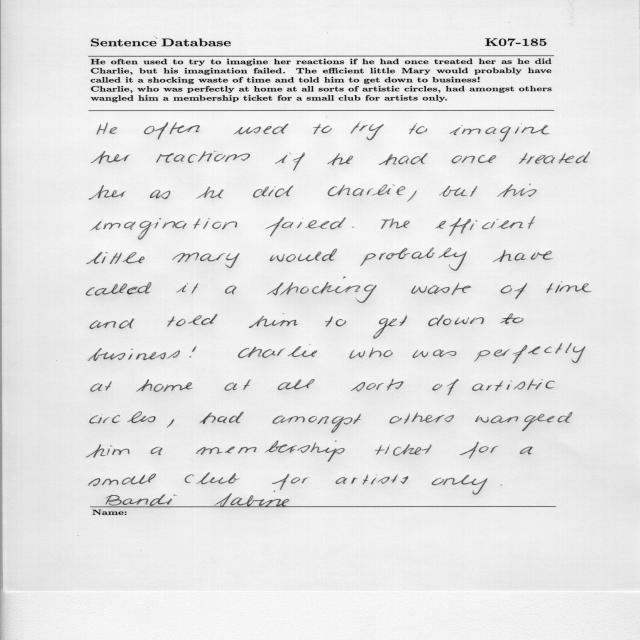word: (92, 218, 237, 240), (196, 441, 345, 462), (267, 277, 377, 303), (360, 248, 467, 271), (474, 343, 586, 363), (435, 216, 535, 236), (475, 412, 572, 431), (272, 413, 361, 433), (450, 125, 550, 142), (163, 473, 239, 495), (266, 217, 346, 236), (88, 348, 180, 361), (156, 151, 250, 163), (238, 344, 317, 358), (172, 252, 240, 268), (144, 122, 200, 140), (472, 379, 555, 391), (270, 248, 337, 262), (328, 184, 405, 196), (86, 282, 152, 296), (519, 151, 590, 164), (443, 475, 488, 495), (88, 474, 156, 487), (373, 315, 407, 339), (90, 412, 156, 424), (336, 474, 408, 485), (389, 412, 454, 424), (136, 379, 193, 392), (493, 250, 553, 262), (411, 283, 471, 295), (87, 252, 145, 264), (375, 444, 431, 456), (167, 314, 217, 327), (272, 474, 308, 492), (460, 442, 498, 459), (351, 379, 404, 391), (428, 315, 484, 326), (86, 444, 130, 458), (350, 123, 384, 141), (234, 124, 289, 135), (379, 153, 428, 165), (249, 316, 298, 328), (275, 152, 305, 171), (89, 185, 126, 200), (546, 281, 591, 293), (253, 185, 294, 198), (200, 412, 244, 424), (497, 184, 537, 197), (91, 151, 130, 164), (90, 318, 134, 329), (501, 283, 528, 299), (432, 379, 459, 395), (439, 186, 477, 197), (278, 379, 315, 390), (413, 349, 457, 358), (452, 155, 496, 163), (197, 187, 224, 199), (381, 218, 410, 229), (327, 153, 353, 165), (225, 380, 252, 391), (501, 314, 524, 325), (97, 123, 117, 135), (369, 348, 393, 358), (177, 283, 198, 294), (91, 381, 112, 392), (325, 317, 346, 327), (409, 123, 428, 134), (150, 190, 170, 200), (313, 124, 332, 134), (350, 350, 366, 359), (407, 190, 417, 202), (520, 447, 533, 455), (225, 286, 236, 295), (151, 447, 163, 455), (189, 346, 197, 357), (432, 478, 444, 485), (167, 419, 174, 428), (352, 227, 354, 228)
